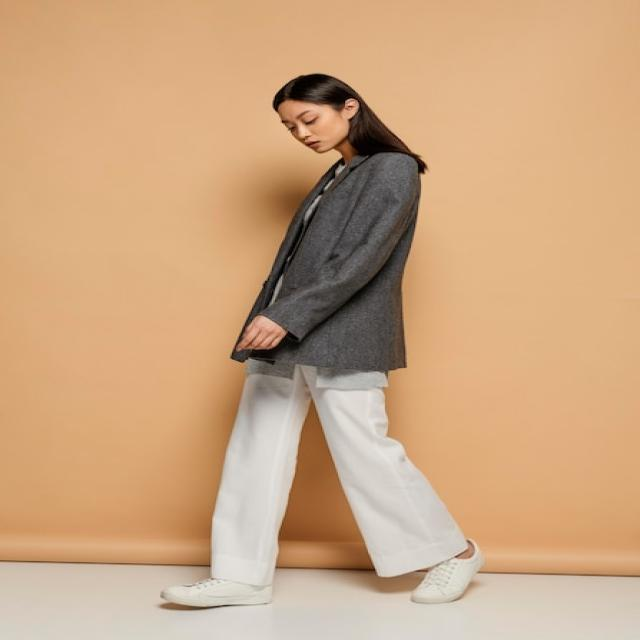Person: (165, 74, 485, 607)
